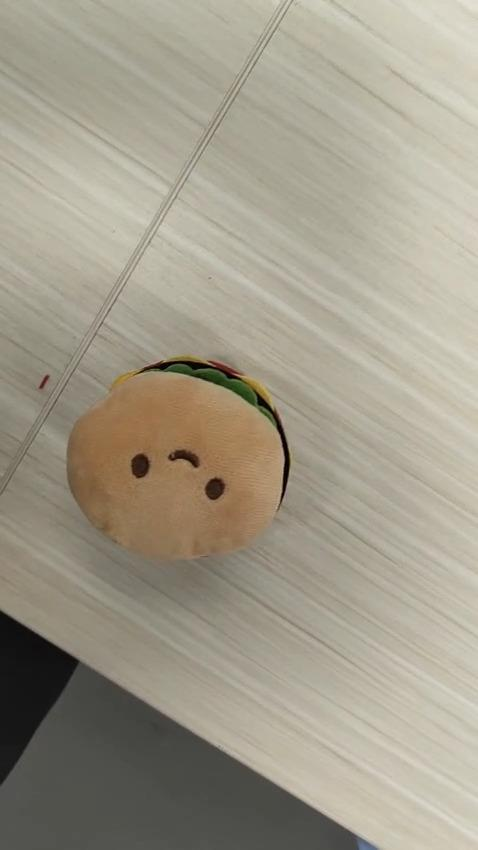hamburger: (64, 347, 298, 572)
